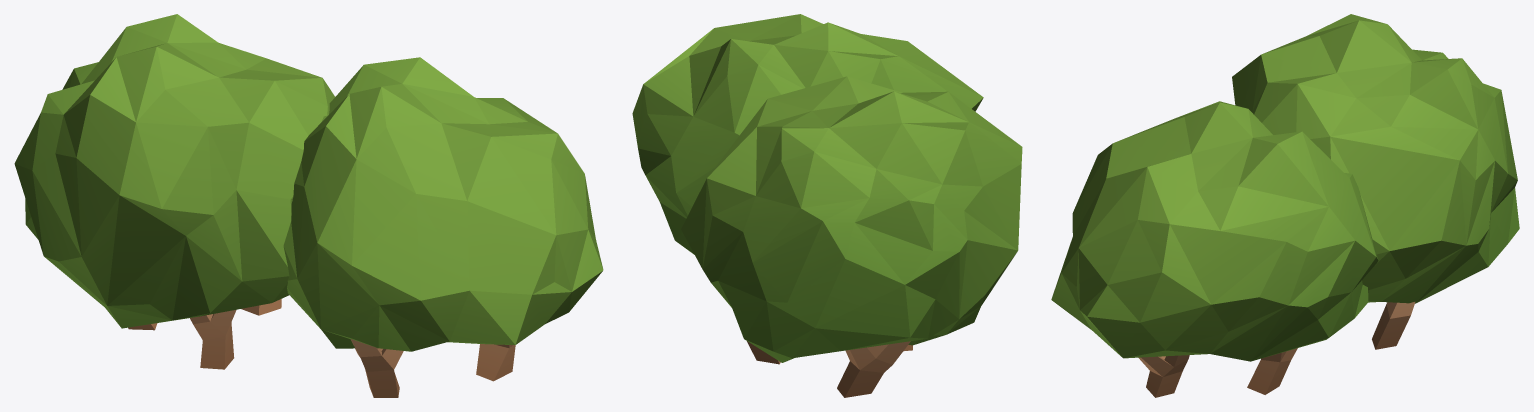
File: Bush_group_average.fbx
The picture shows the model from 3 angles, left to right: view 1: azimuth 30°, elevation 25°; view 2: azimuth 150°, elevation 25°; view 3: azimuth 270°, elevation 25°; orthographic projection. The views are drawn at different scales.
Visible parts, largest first — view 1: Bush_group_average; view 2: Bush_group_average; view 3: Bush_group_average.
Boxes of the visible parts, left/top/right/bottom form: Bush_group_average: left=14, top=14, right=603, bottom=397; Bush_group_average: left=632, top=14, right=1022, bottom=397; Bush_group_average: left=1051, top=14, right=1519, bottom=397.
Bounding box in the file's own units: 5.06 × 3.32 × 5.2.
